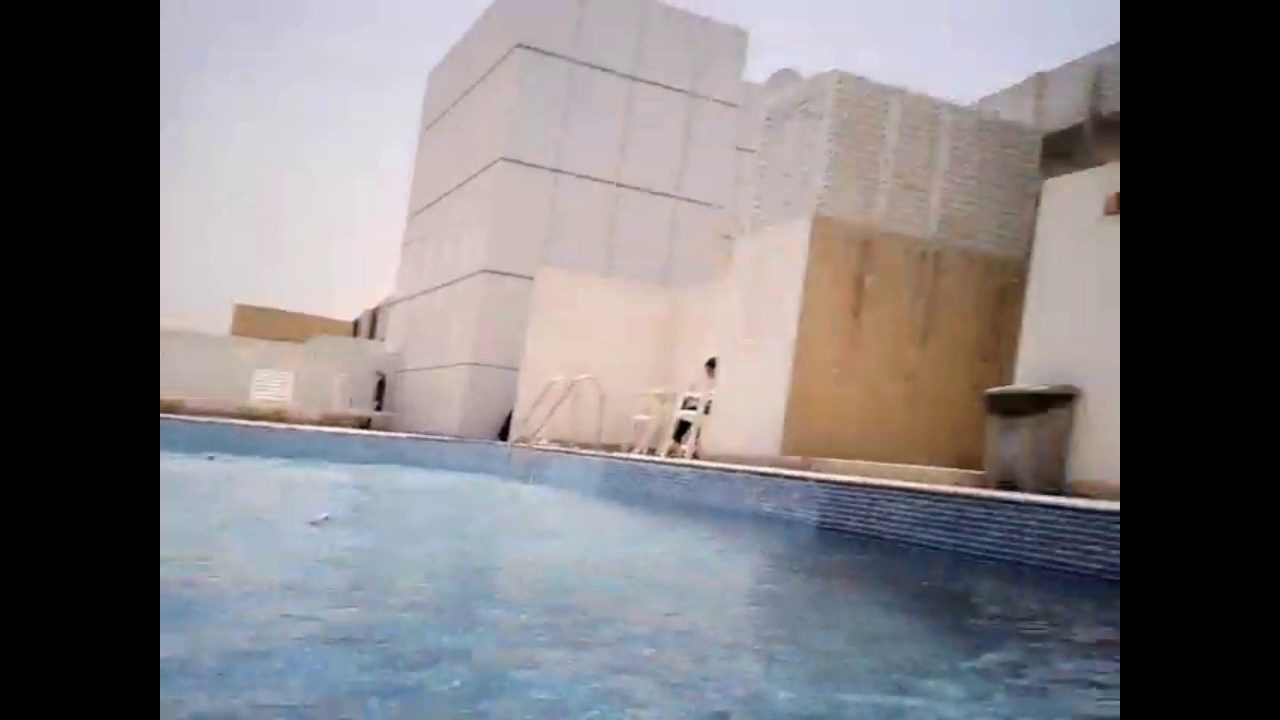debris: (306, 506, 331, 533), (203, 451, 216, 463)
